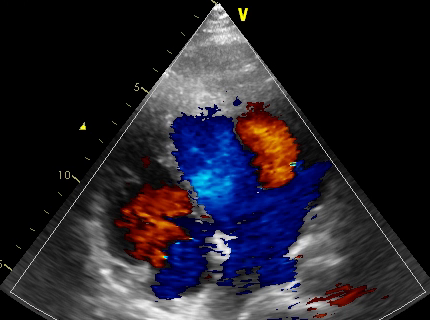MR: (216, 162, 309, 253)
